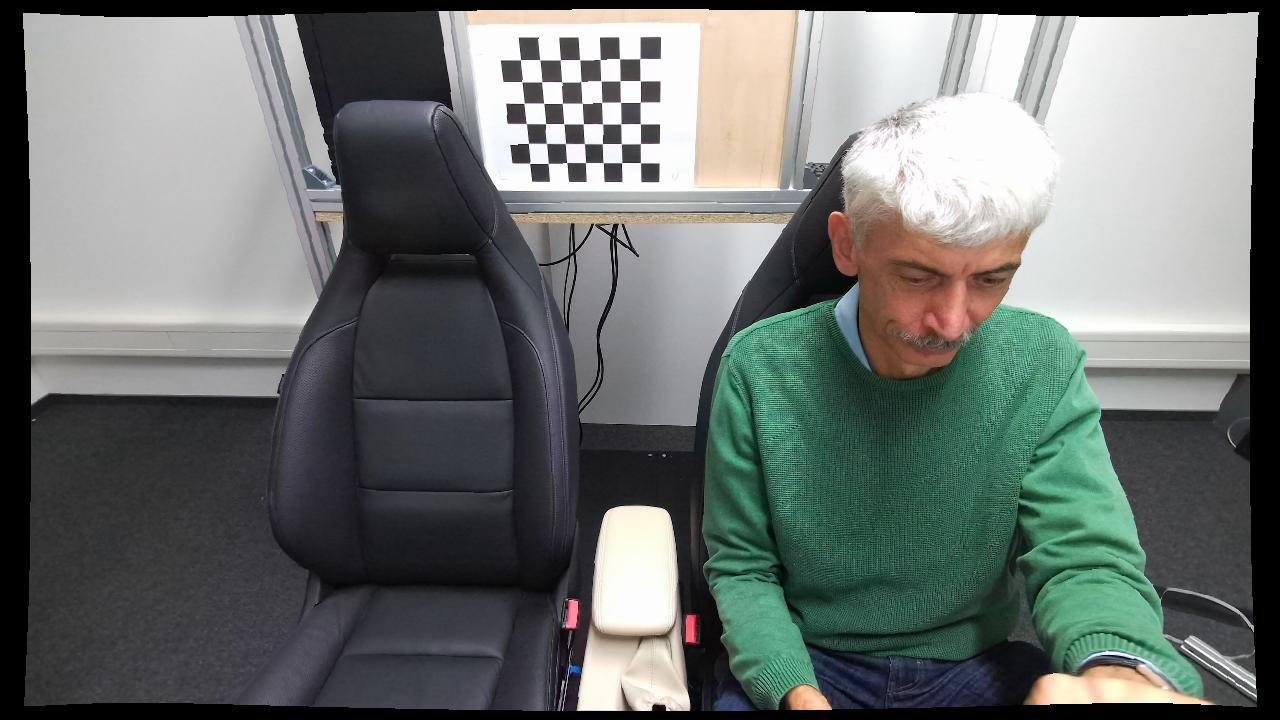SafeDriving: (700, 91, 1202, 703)
